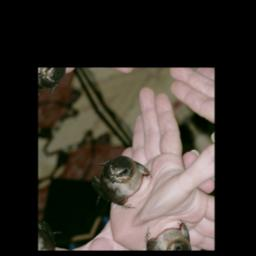Swallow: (77, 138, 163, 230)
